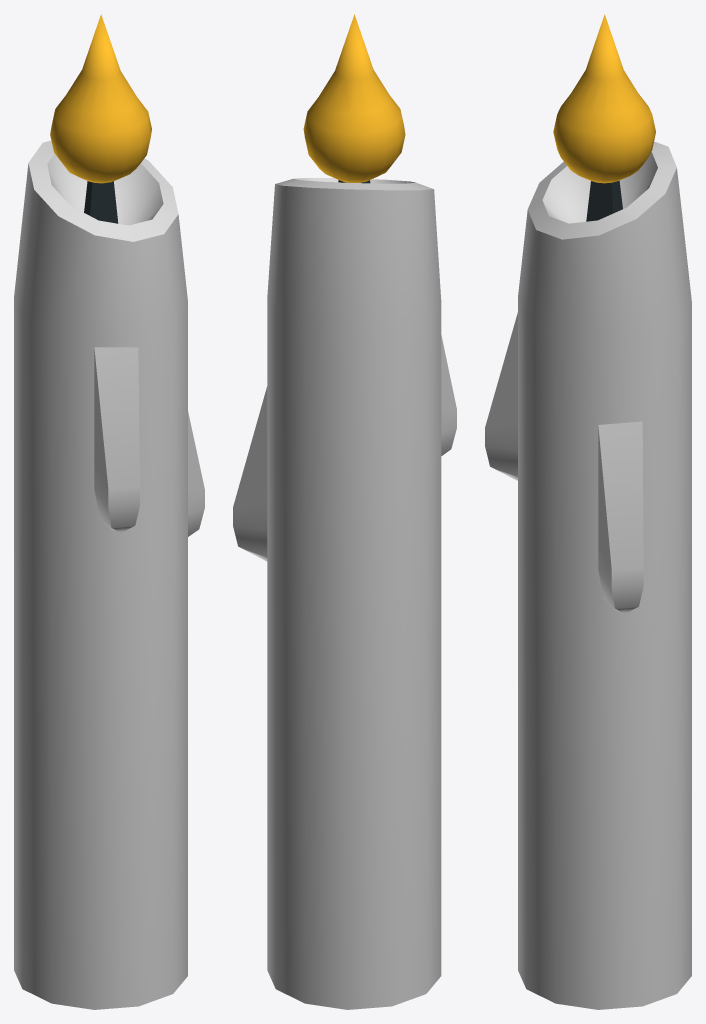
Rendered from candleSmall.gltf.glb.
3 renders of one model, left to right at view 1: azimuth 30°, elevation 25°; view 2: azimuth 150°, elevation 25°; view 3: azimuth 270°, elevation 25°, orthographic.
Visible parts, largest first — view 1: candleSmall; view 2: candleSmall; view 3: candleSmall.
Part boxes in pixels (x1,y1,x2,y2): candleSmall: (14, 14, 204, 1009); candleSmall: (233, 14, 456, 1009); candleSmall: (485, 14, 691, 1009).
Size of the model in its own units: 0.1739 by 0.873 by 0.1707.
